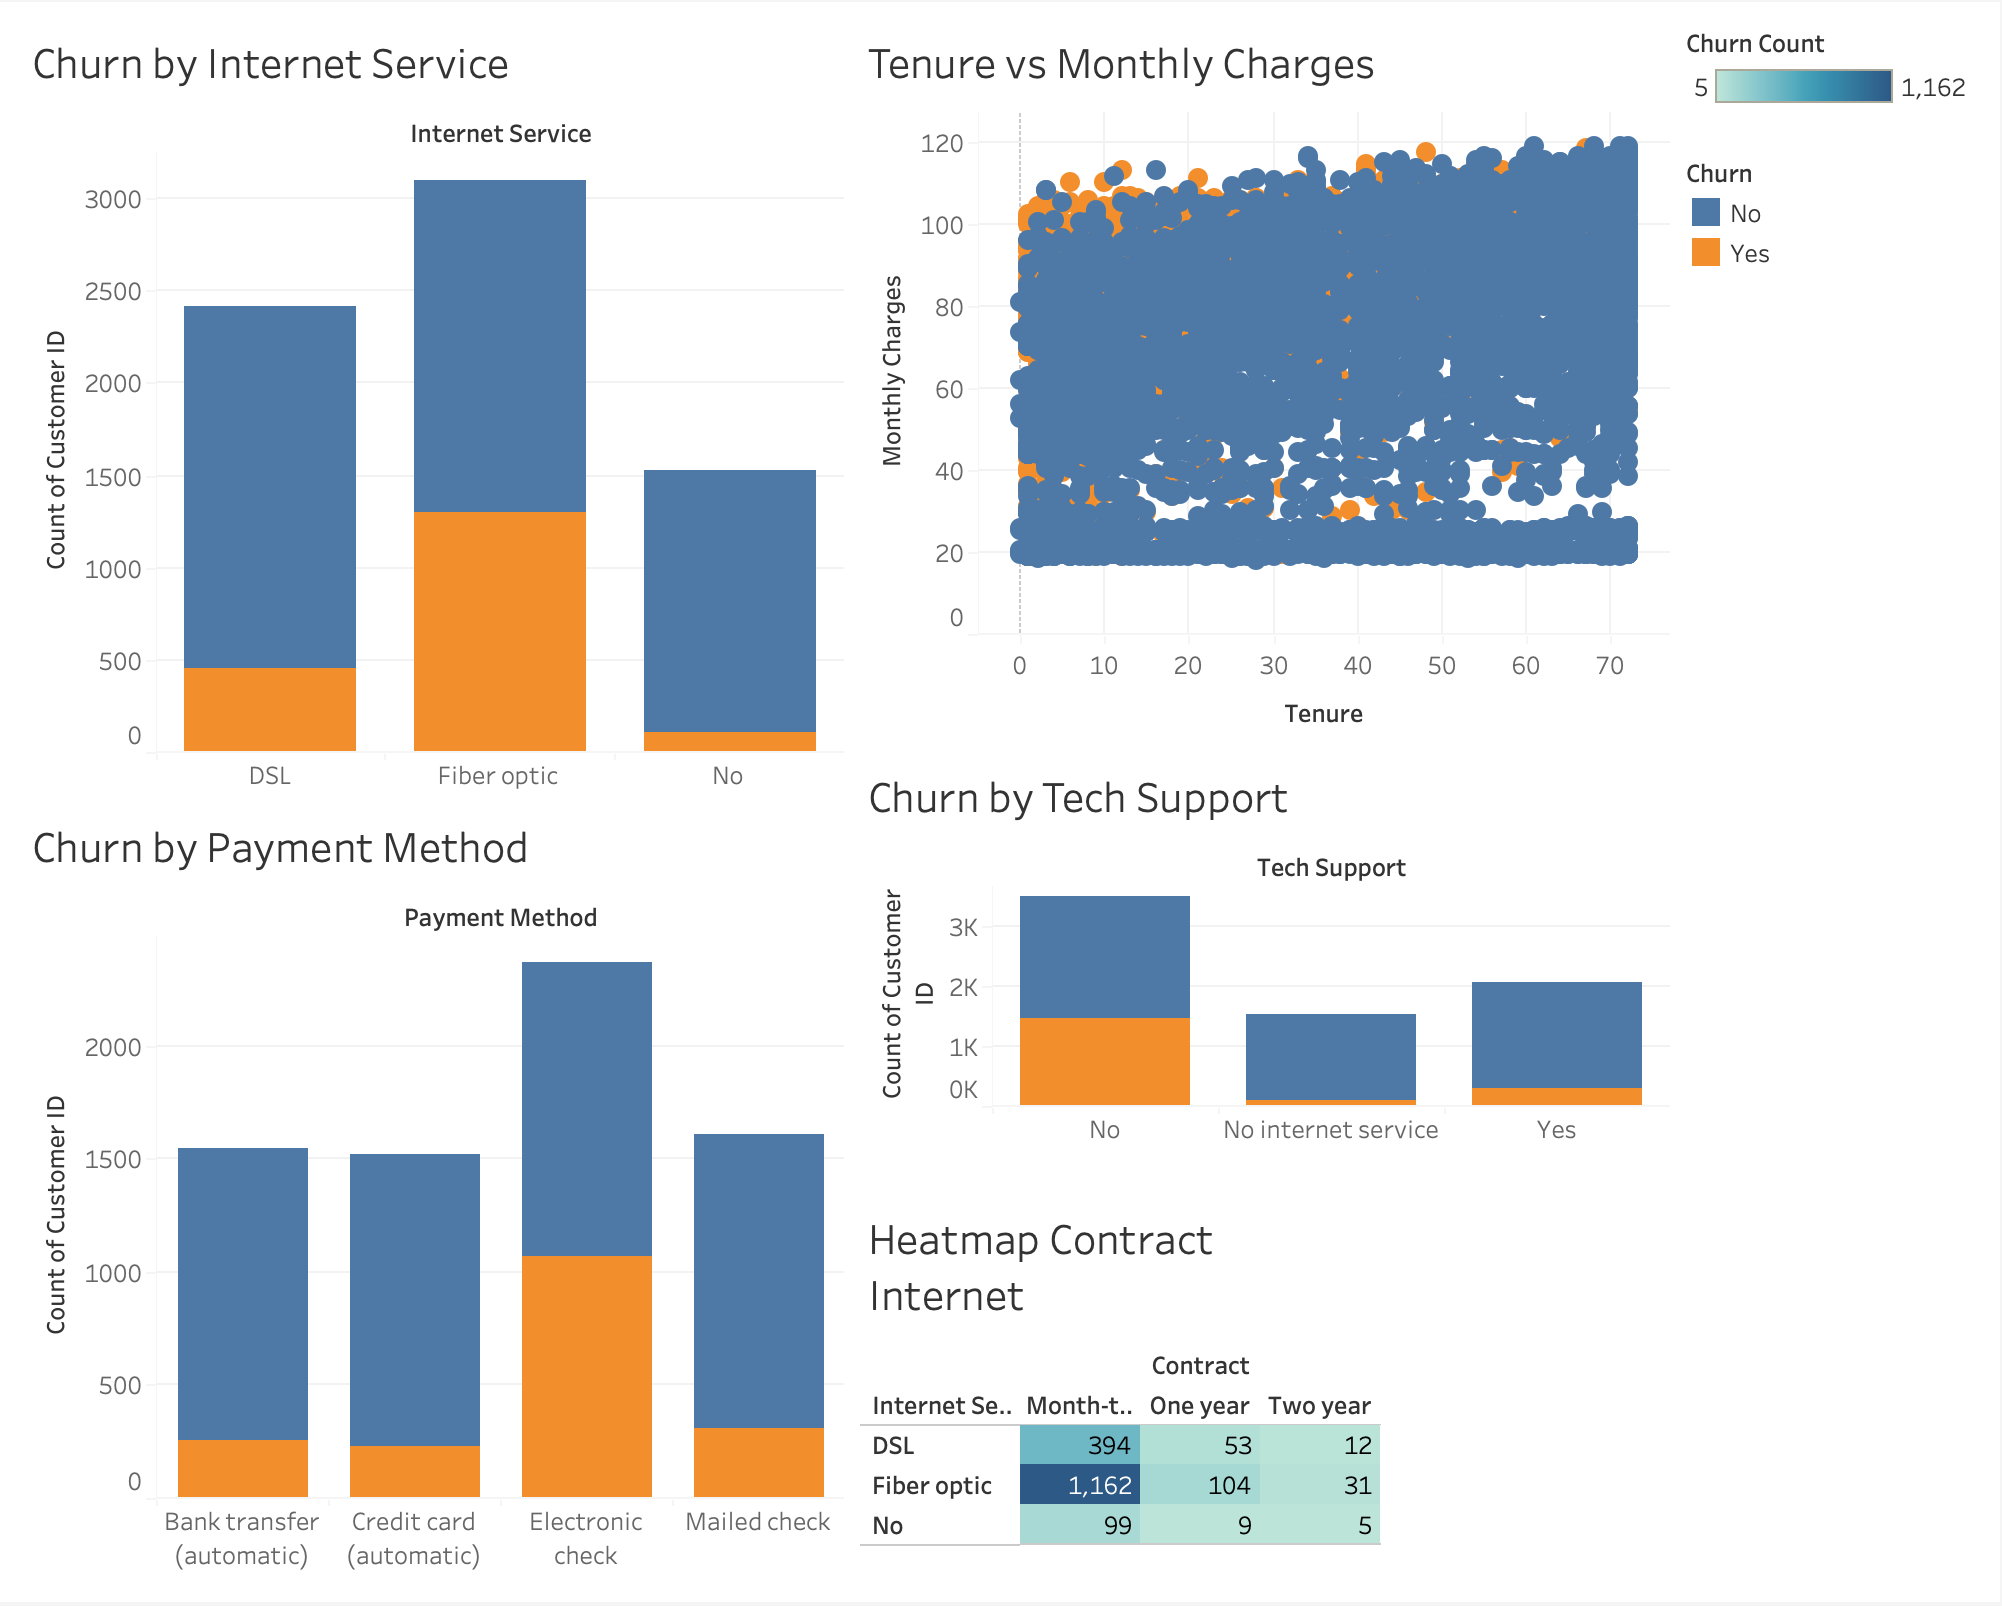

This screenshot's page, from the dashboard's own definition file:
{"tool":"tableau","page":{"name":"Churn Drivers Analysis","canvas":[1000,800],"ordinal":0},"visuals":[{"type":"worksheet","title":"Churn by Internet Service","mark":"Automatic","rows":["customerID"],"cols":["InternetService"],"box":[8,8,417.5,392]},{"type":"worksheet","title":"Tenure vs Monthly Charges","mark":"Circle","rows":["MonthlyCharges"],"cols":["tenure"],"box":[425.5,8,413.5,367]},{"type":"legend","title":"Heatmap Contract Internet","param":"[federated.0icyj1y0edcubi1bv8d2u0jglee3].[usr:Calculation_0588700607098880:qk]","box":[839,8,153,65]},{"type":"legend","title":"Churn by Internet Service","param":"[federated.0icyj1y0edcubi1bv8d2u0jglee3].[none:Churn:nk]","box":[839,73,153,66]},{"type":"worksheet","title":"Churn by Tech Support","mark":"Automatic","rows":["customerID"],"cols":["TechSupport"],"box":[425.5,375,413.5,221]},{"type":"worksheet","title":"Churn by Payment Method","mark":"Automatic","rows":["customerID"],"cols":["PaymentMethod"],"box":[8,400,417.5,392]},{"type":"worksheet","title":"Heatmap Contract Internet","mark":"Square","rows":["InternetService"],"cols":["Contract"],"box":[425.5,596,413.5,196]}]}

Visuals, with their boxes in screenshot pixels (x1, y1, x2, y2), scaled from the page's 1000x800 canvas onto the 2002x1606 screenshot:
"Churn by Internet Service" worksheet: (16, 16, 852, 803)
"Tenure vs Monthly Charges" worksheet (Circle marks): (852, 16, 1680, 753)
"Heatmap Contract Internet" legend: (1680, 16, 1986, 147)
"Churn by Internet Service" legend: (1680, 147, 1986, 279)
"Churn by Tech Support" worksheet: (852, 753, 1680, 1196)
"Churn by Payment Method" worksheet: (16, 803, 852, 1590)
"Heatmap Contract Internet" worksheet (Square marks): (852, 1196, 1680, 1590)
